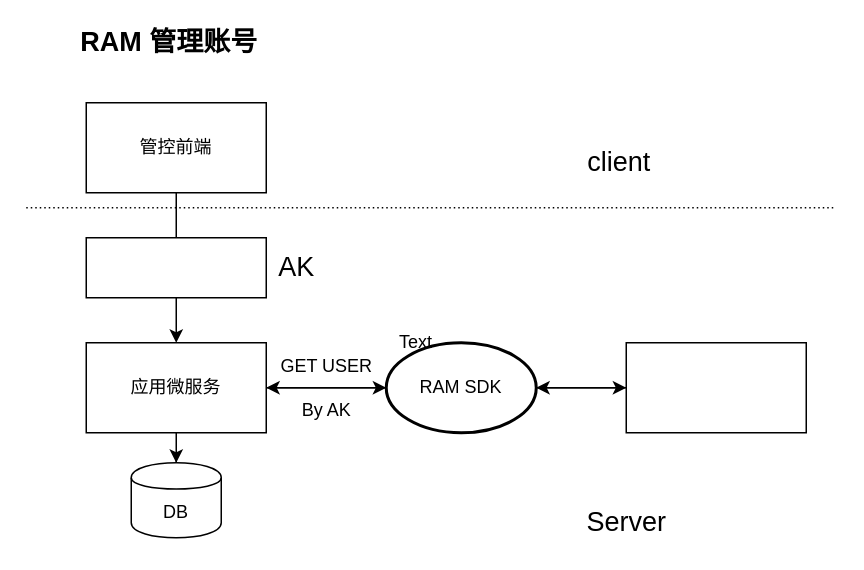
The diagram is 864 pixels wide and 570 high, and some of its shapes have lost their labels. Here are the shapes that lost their labels. From the top down, the box of each, then its label:
(85, 236, 266, 298): open api 网关
(625, 341, 806, 433): 阿里云RAM
